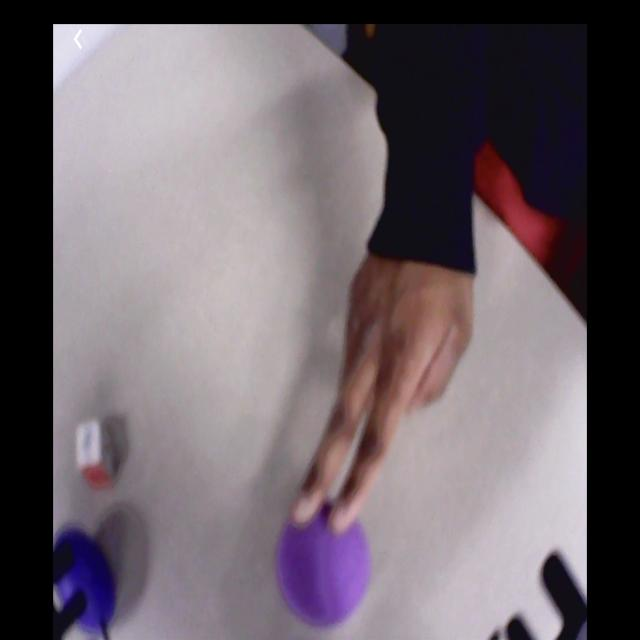ball: (278, 502, 373, 626), (54, 526, 120, 639)
